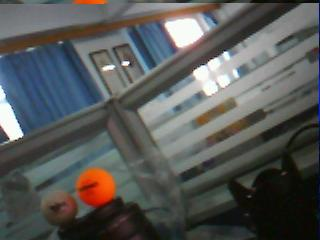oball: (77, 168, 116, 206)
